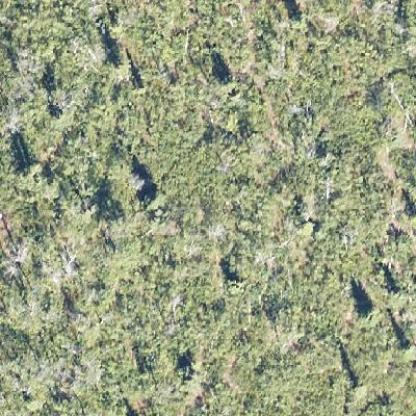tree-top: (16, 156, 42, 182), (144, 185, 166, 207), (356, 302, 380, 322), (106, 54, 127, 75), (397, 337, 414, 356), (221, 73, 237, 90), (347, 380, 363, 394)
